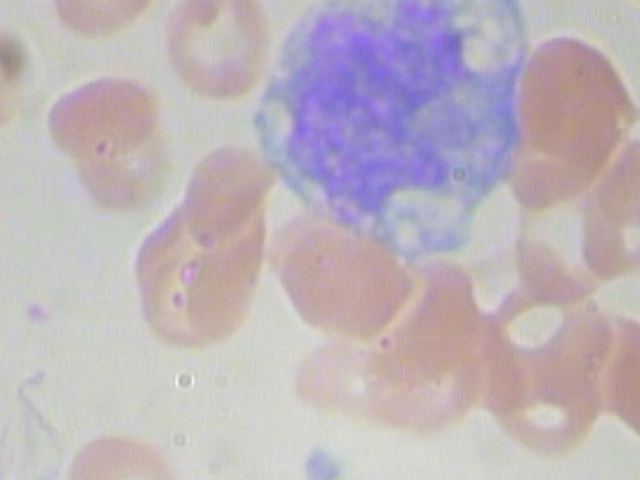Platelets: (295, 439, 355, 480)
RBC: (277, 214, 409, 356), (110, 216, 252, 348), (512, 33, 640, 174), (463, 344, 608, 465), (155, 0, 276, 121), (39, 53, 167, 163), (180, 128, 277, 257), (62, 421, 204, 480), (41, 0, 173, 52), (592, 307, 640, 449), (0, 13, 45, 142), (0, 135, 11, 267), (551, 469, 640, 480)
WBC: (265, 0, 540, 267)
